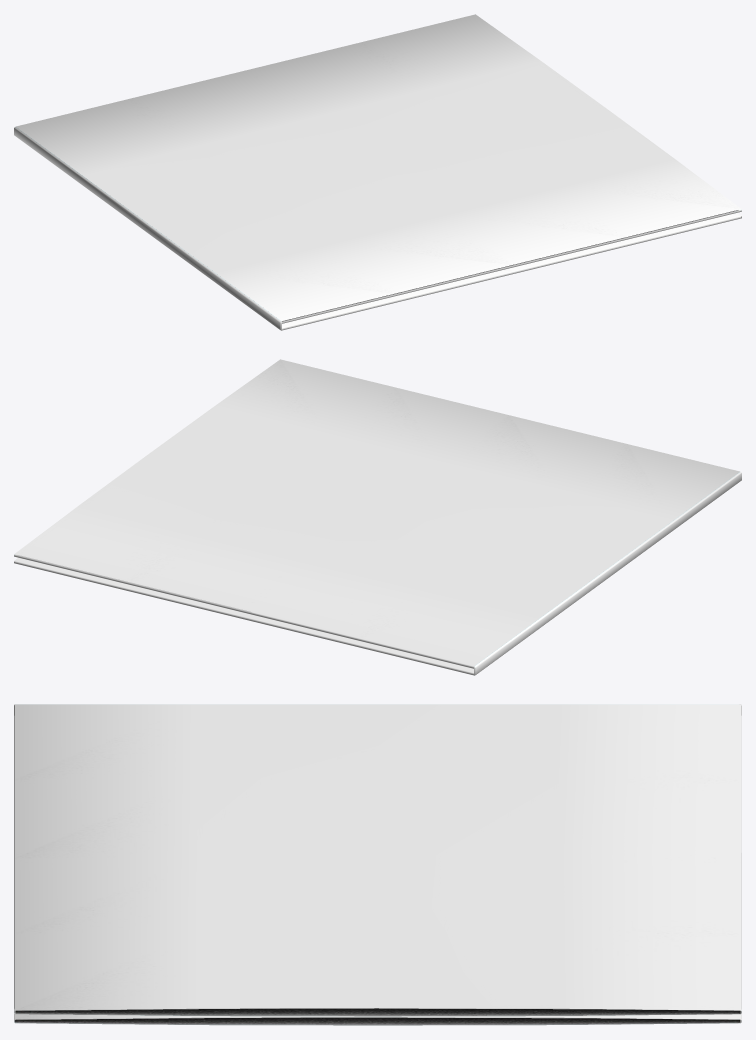
File: sleeve_gatefold_12_white.dae
3 views of the same model, one above another, from view 1: azimuth 30°, elevation 25°; view 2: azimuth 150°, elevation 25°; view 3: azimuth 270°, elevation 25° (orthographic). The views are drawn at different scales.
Visible parts, largest first — view 1: Front_unify_焼成後のtex確認用, Back_unify_焼成後のtex確認用, gatefold_spine_焼成後のtex確認用; view 2: Front_unify_焼成後のtex確認用, Back_unify_焼成後のtex確認用, gatefold_spine_焼成後のtex確認用; view 3: Front_unify_焼成後のtex確認用, Back_unify_焼成後のtex確認用.
Part boxes in pixels (x1=…): Front_unify_焼成後のtex確認用: x1=16, y1=14, x2=741, y2=323; Back_unify_焼成後のtex確認用: x1=282, y1=213, x2=741, y2=330; gatefold_spine_焼成後のtex確認用: x1=14, y1=126, x2=281, y2=330; Front_unify_焼成後のtex確認用: x1=14, y1=359, x2=739, y2=668; Back_unify_焼成後のtex確認用: x1=14, y1=558, x2=473, y2=675; gatefold_spine_焼成後のtex確認用: x1=474, y1=471, x2=741, y2=675; Front_unify_焼成後のtex確認用: x1=14, y1=704, x2=741, y2=1016; Back_unify_焼成後のtex確認用: x1=14, y1=1014, x2=741, y2=1025.
Size of the model in its own units: 31.22 by 0.9986 by 31.26.
Materials: 3 (3 with a texture image).
